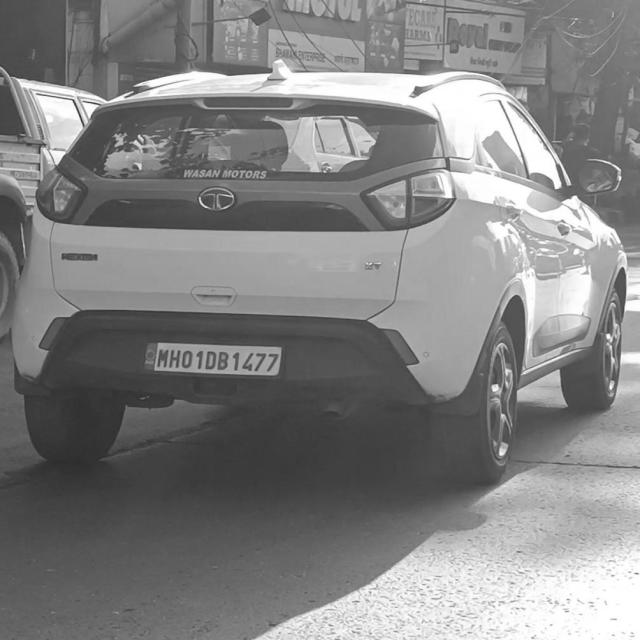car: (8, 62, 630, 486)
license-plate: (146, 338, 282, 381)
